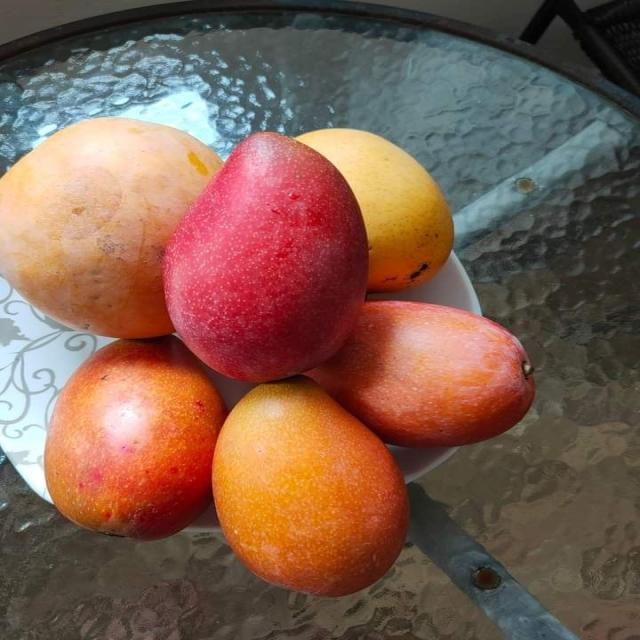mango: (165, 133, 367, 381), (0, 118, 221, 337), (213, 376, 407, 595), (45, 336, 226, 539), (308, 301, 534, 447), (297, 128, 453, 291)
